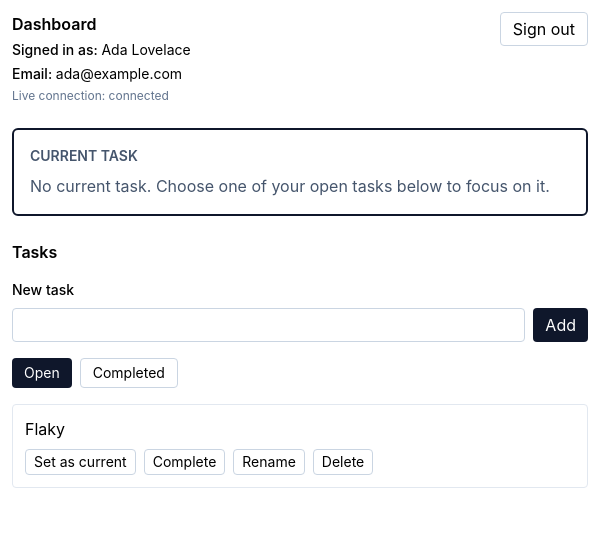
Scenario: stale mutation errors (FE-3) › a successful rename clears an earlier failed "Set as current" on the same task
Click the button "Set as current" at (80, 462), box [25,449,136,475]
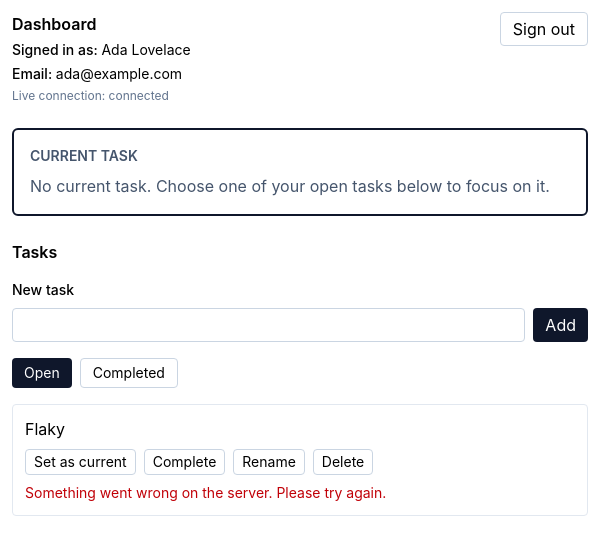
Check: the text "Something went wrong on the server. Please try again." is shown, box [25,484,386,501]
Click the button "Rename" at (269, 462), box [233,449,305,475]
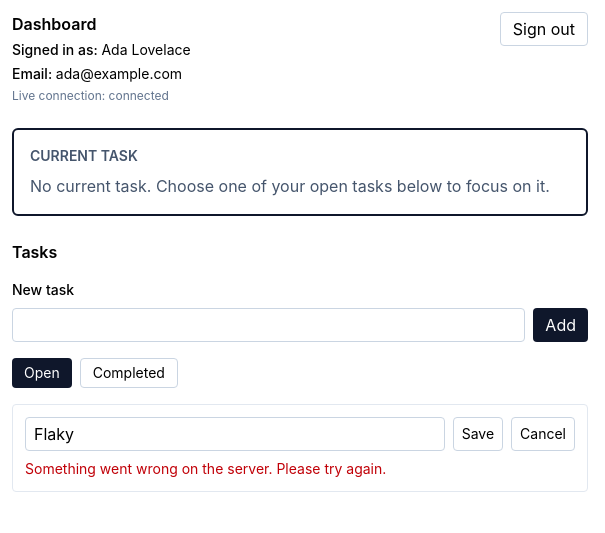
Replace the text in the field named "Task title" with "Flaky renamed" at (235, 434), box [25,417,445,451]
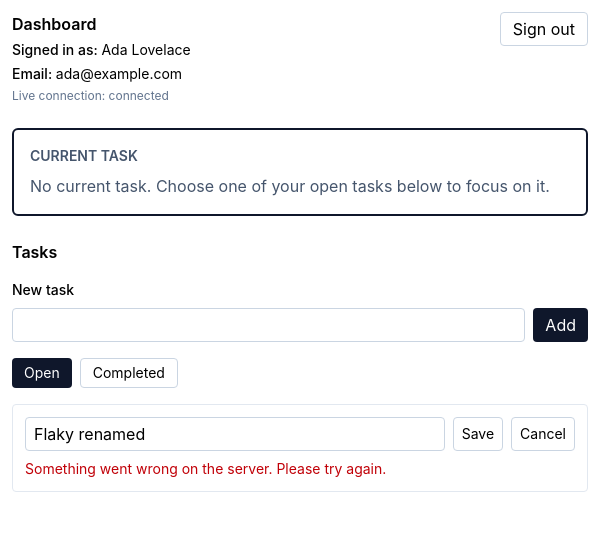
Click the button "Save" at (478, 434), box [453,417,503,451]
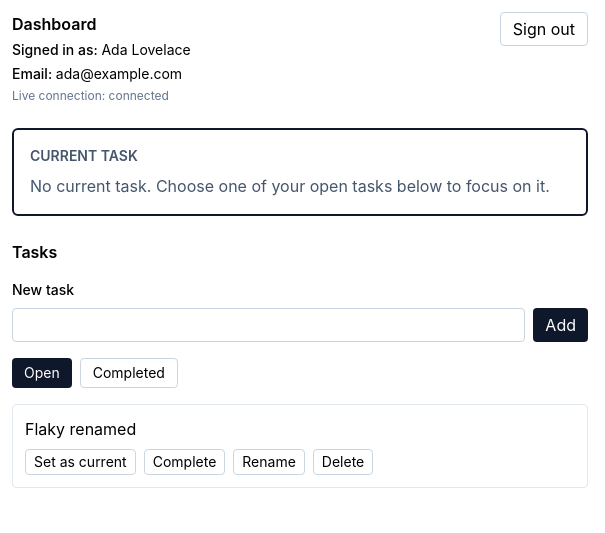
Check: the text "Flaky renamed" is shown, box [25,419,136,439]
Check: the text "Something went wrong on the server. Please try again." is gone
Check: the message "Something went wrong on the server. Please try again." is gone
